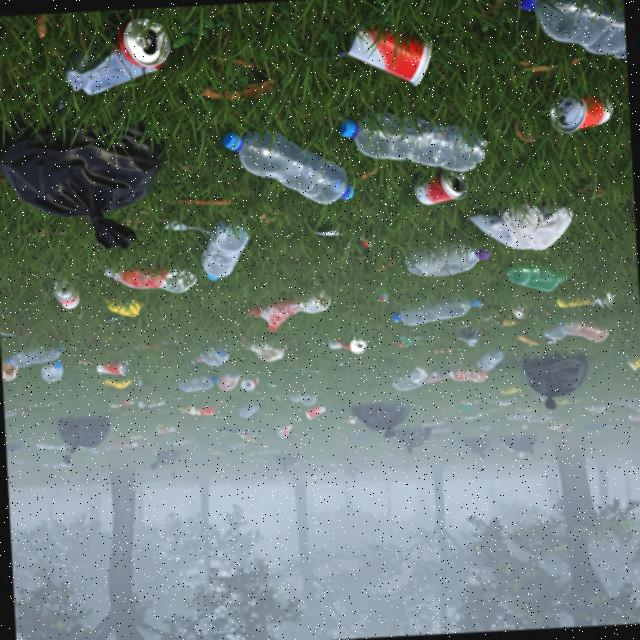aluminum: (57, 17, 176, 97), (542, 88, 617, 136), (412, 168, 470, 208), (51, 276, 82, 312), (328, 336, 368, 356), (95, 359, 127, 378)
plastic: (216, 118, 360, 213), (336, 107, 488, 180), (517, 0, 627, 71), (100, 259, 200, 300), (247, 288, 335, 332), (199, 218, 251, 284), (402, 240, 492, 278), (4, 338, 68, 389), (389, 294, 483, 326), (501, 256, 567, 294), (541, 314, 612, 347), (389, 365, 434, 393), (175, 370, 220, 394), (476, 344, 506, 373)
